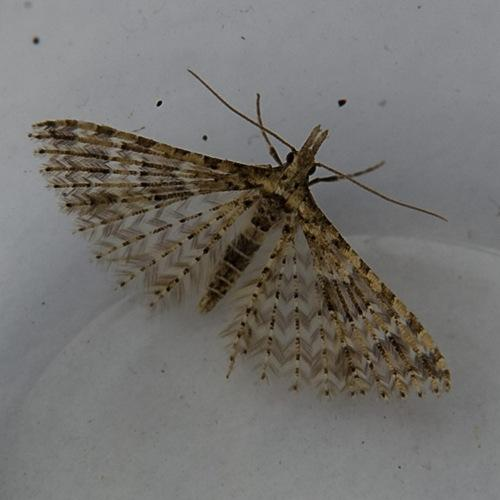Alucitidae: (29, 60, 457, 410)
moth: (27, 58, 455, 408)
